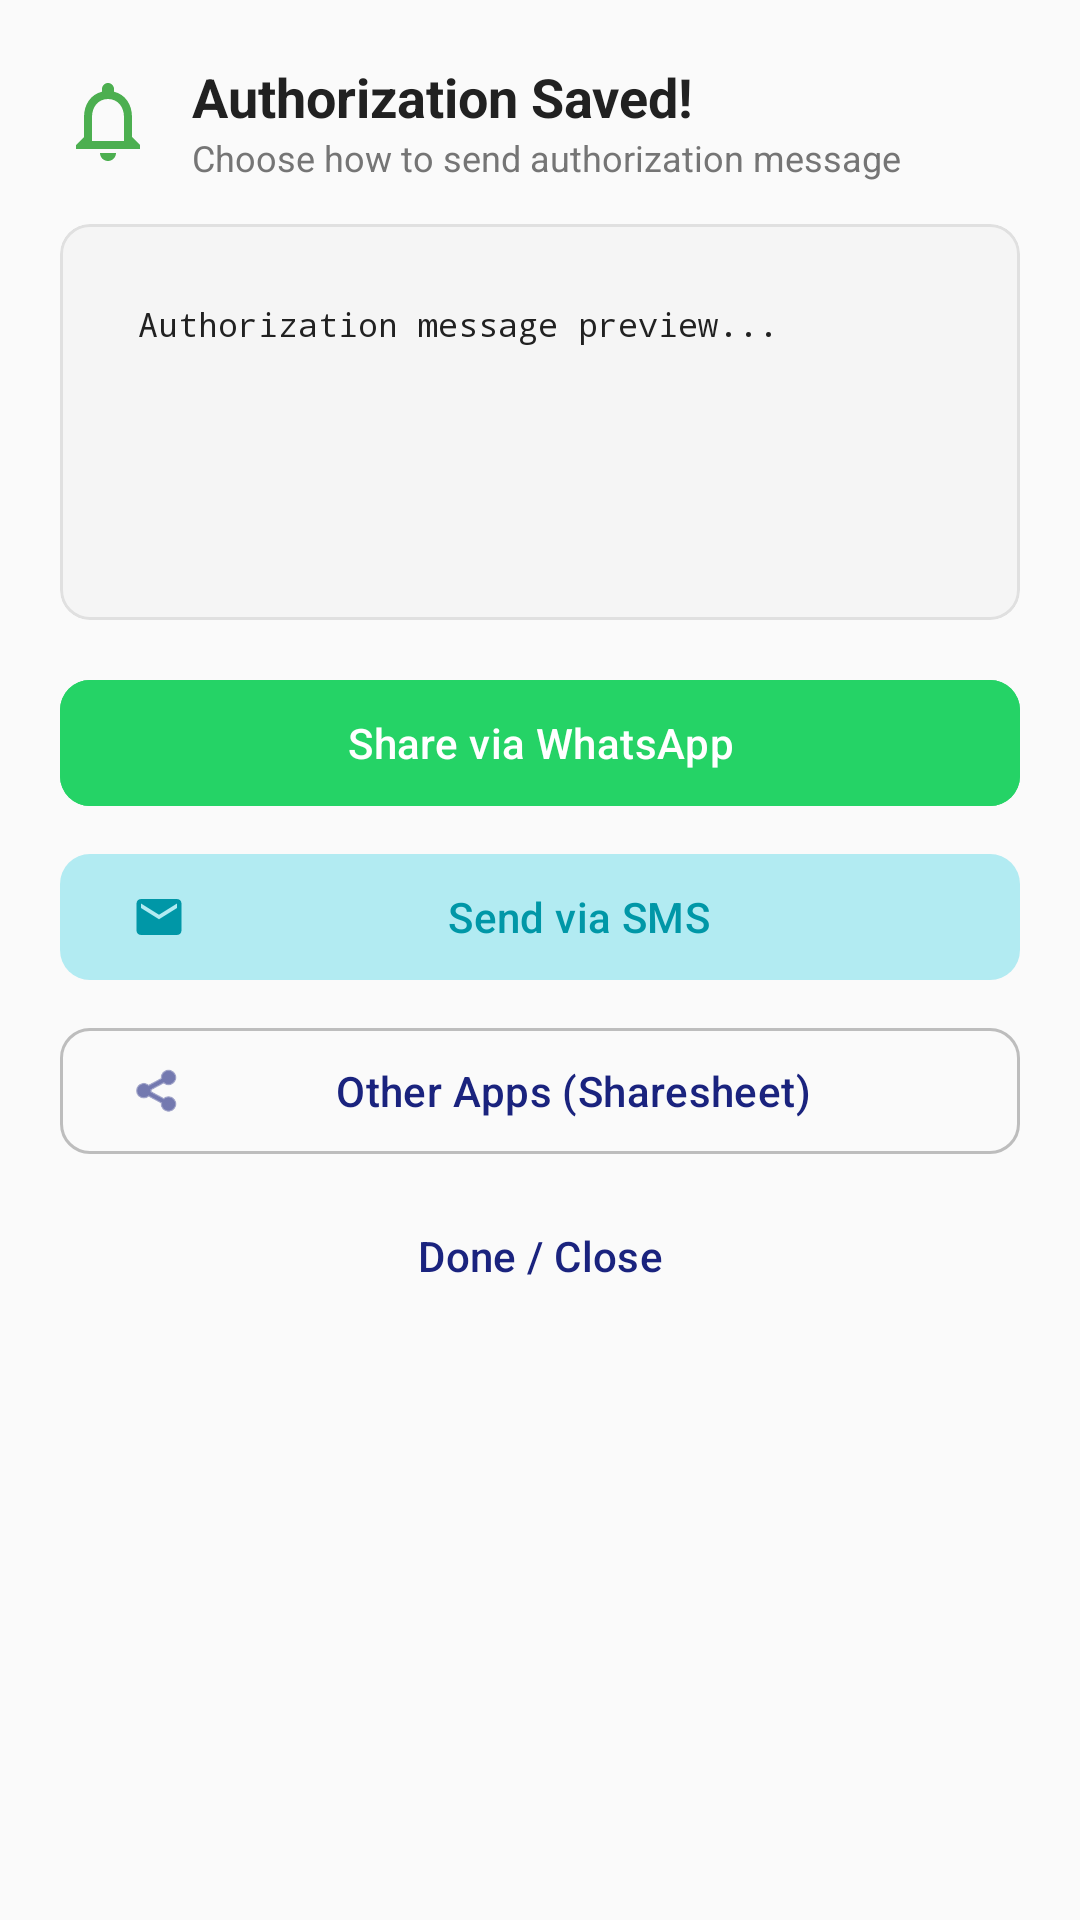

Icons on this 1080×1920 Android screen, each with the point to tap as point (x, y):
notification: point (108, 122)
